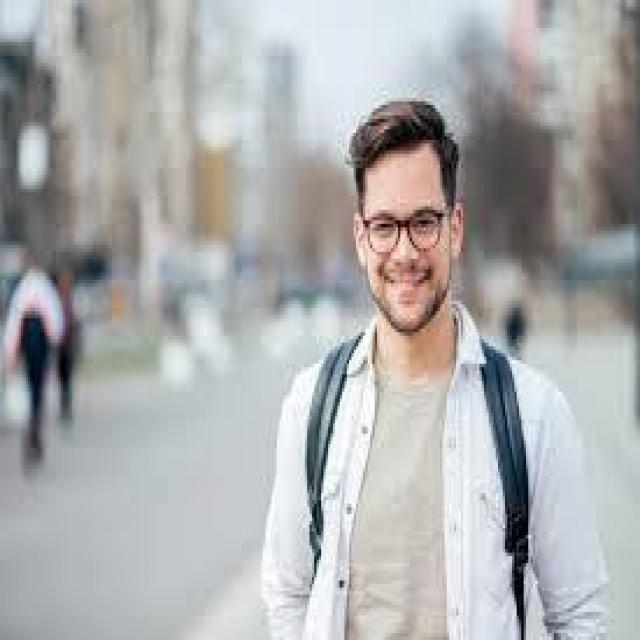person: (277, 66, 579, 636)
